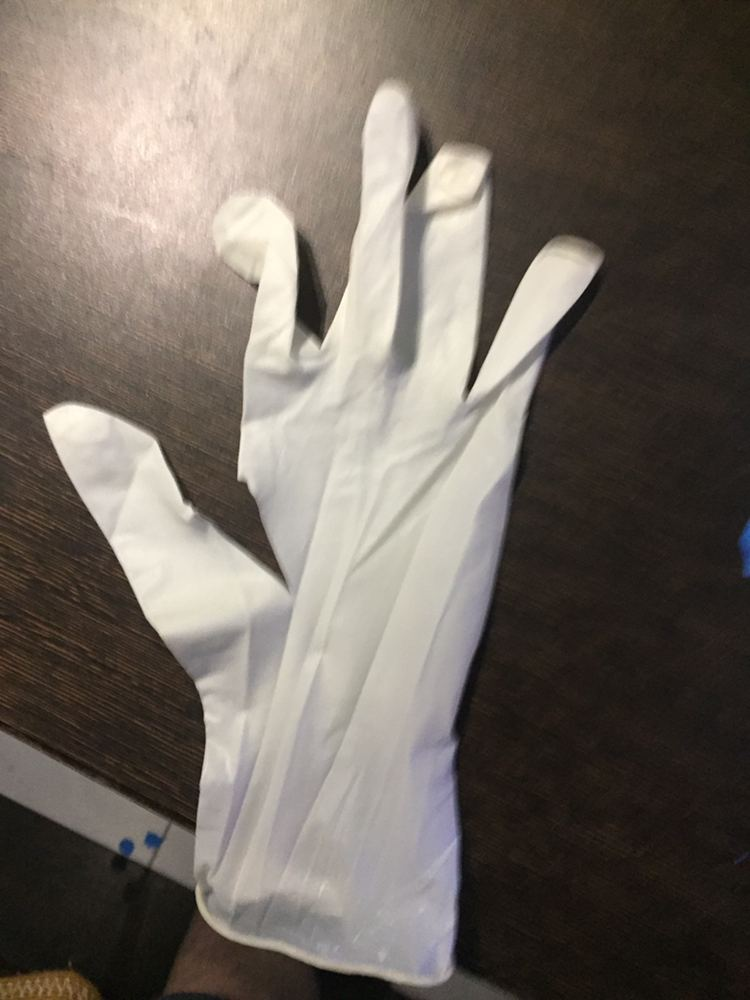defected: (36, 54, 621, 881)
